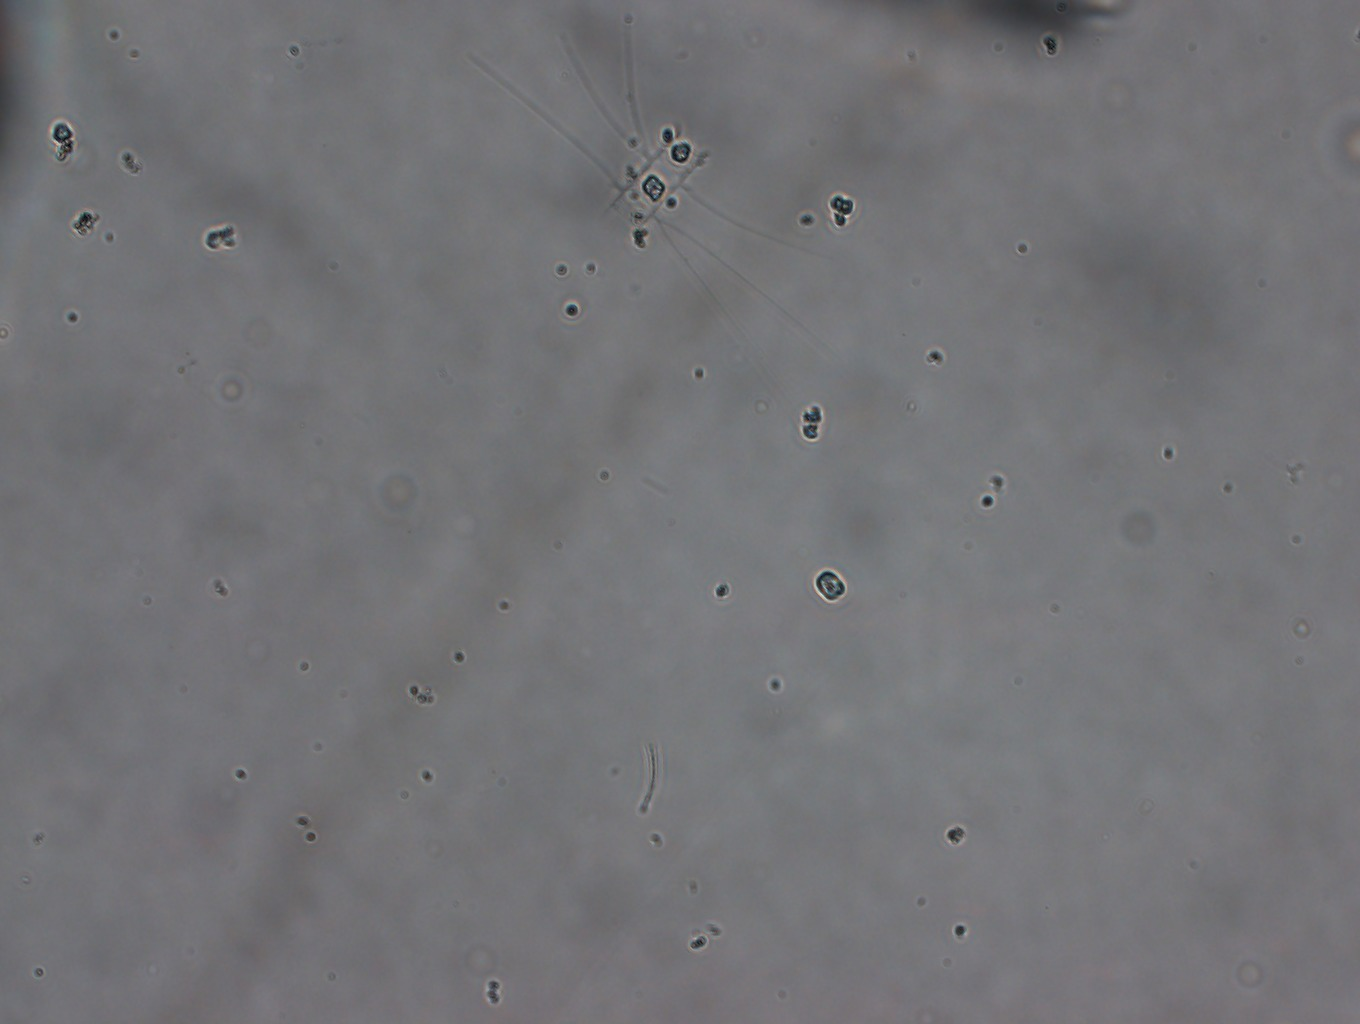chaetoceros: (463, 13, 851, 359)
